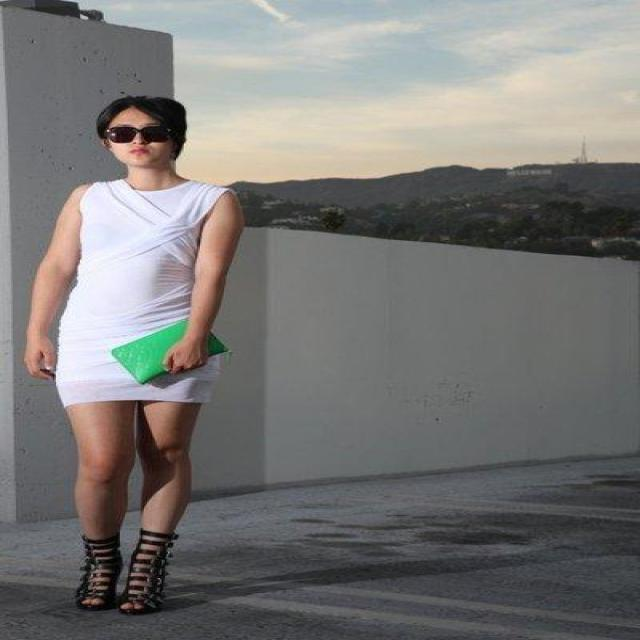bag: (112, 320, 197, 383)
dress: (54, 180, 229, 422)
shoe: (80, 532, 179, 614)
shorts: (134, 554, 181, 593)
sunglass: (134, 120, 186, 159)
